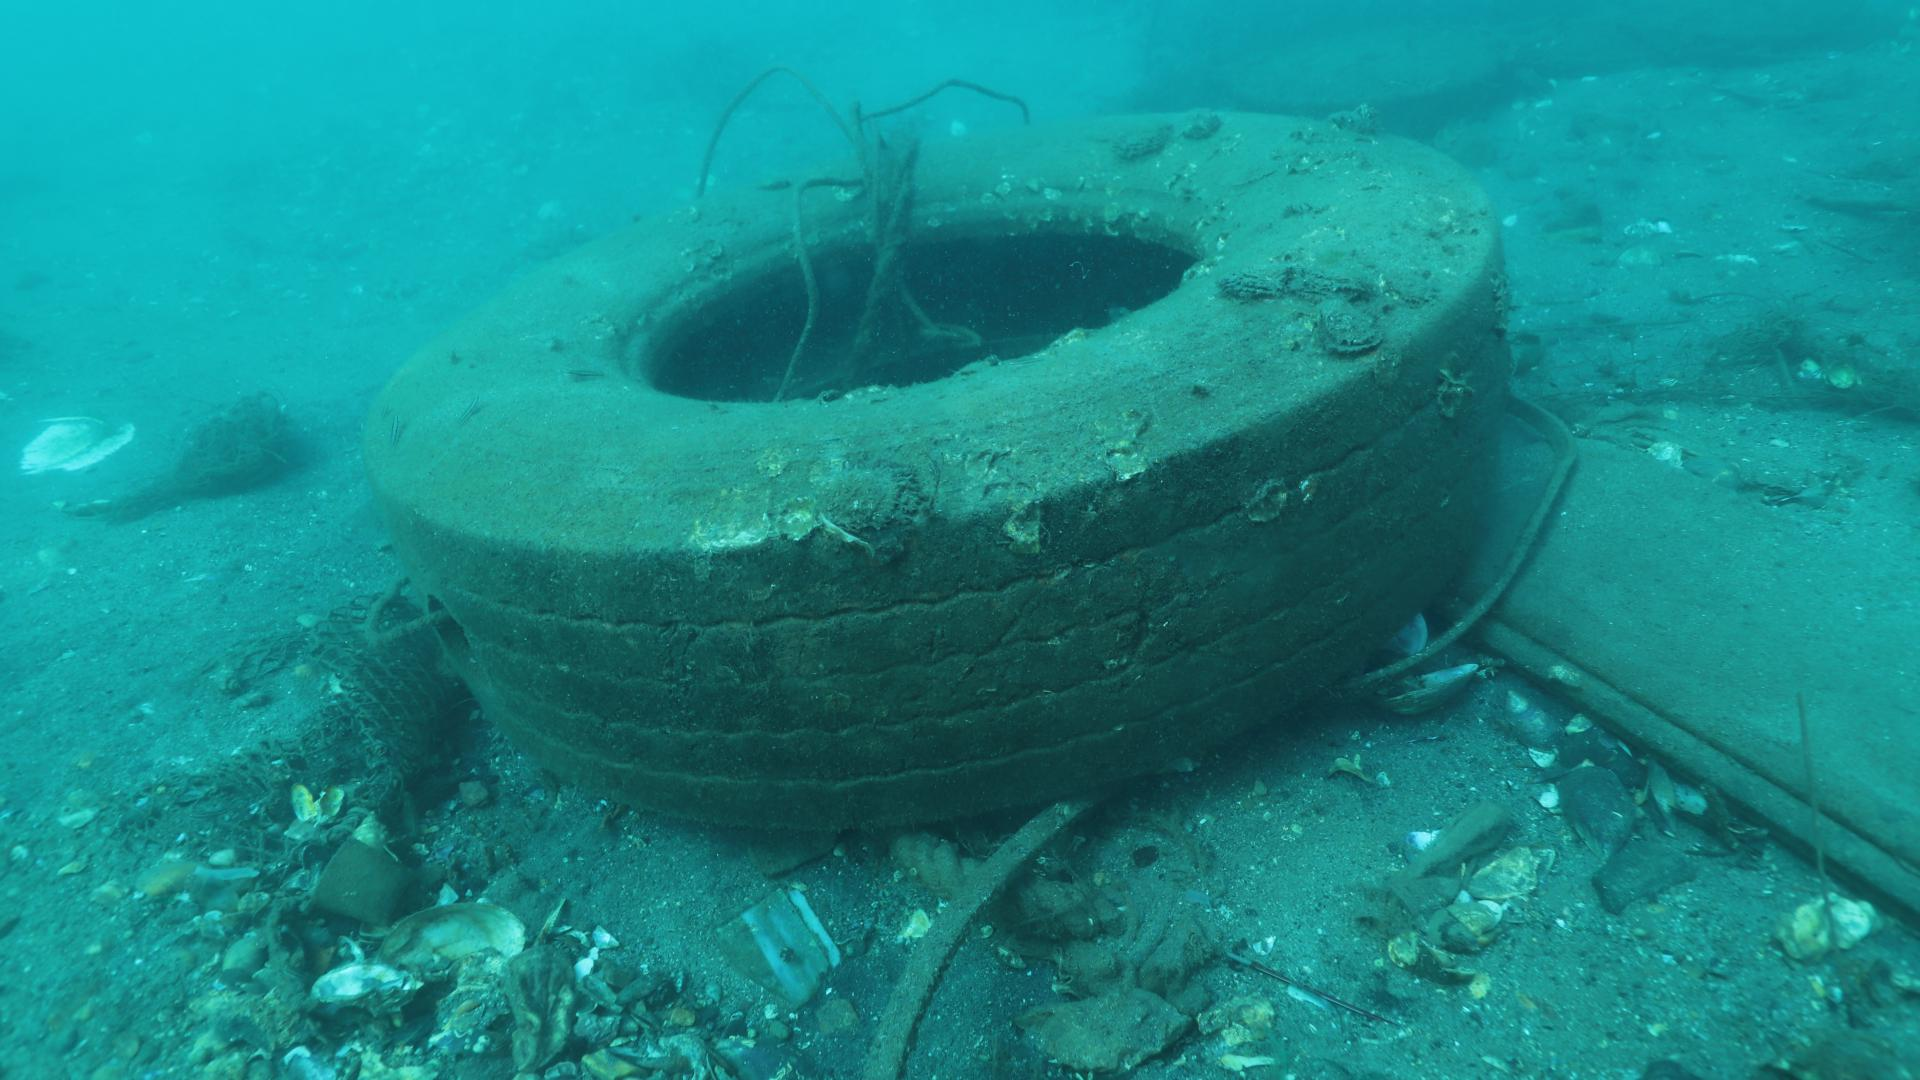bundle of ropes: (696, 61, 1029, 400)
fish net: (276, 589, 446, 775)
rope: (894, 833, 1087, 934)
tire: (367, 105, 1499, 832)
